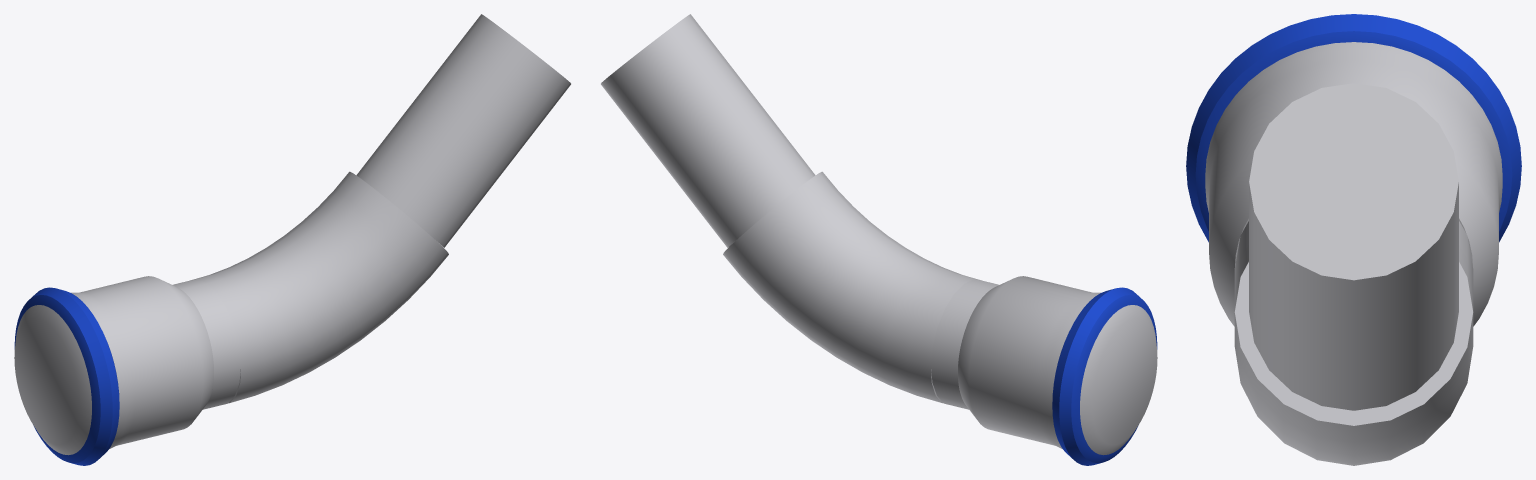
The model's file is fitting_e45.glb.
3 renders of one model, left to right at view 1: azimuth 30°, elevation 25°; view 2: azimuth 150°, elevation 25°; view 3: azimuth 270°, elevation 25°, orthographic. The views are drawn at different scales.
Visible parts, largest first — view 1: изгиб, гладкий конец, раструб, кольцо пресс, корпус; view 2: изгиб, гладкий конец, раструб, кольцо пресс, корпус; view 3: гладкий конец, раструб, изгиб, кольцо пресс, корпус.
Part boxes in pixels (box(x1,y1,x2,y2)): изгиб: box(190, 171, 448, 403); гладкий конец: box(356, 14, 570, 247); раструб: box(14, 276, 213, 455); кольцо пресс: box(14, 287, 119, 465); корпус: box(173, 279, 240, 409); изгиб: box(723, 171, 981, 403); гладкий конец: box(601, 14, 815, 247); раструб: box(958, 276, 1157, 455); кольцо пресс: box(1052, 287, 1157, 465); корпус: box(931, 279, 998, 409); гладкий конец: box(1249, 83, 1458, 410); раструб: box(1205, 42, 1502, 326); изгиб: box(1234, 245, 1473, 465); кольцо пресс: box(1186, 14, 1521, 242); корпус: box(1234, 221, 1473, 292).
Size of the model in its own units: 0.1145 by 0.0712 by 0.0352.
